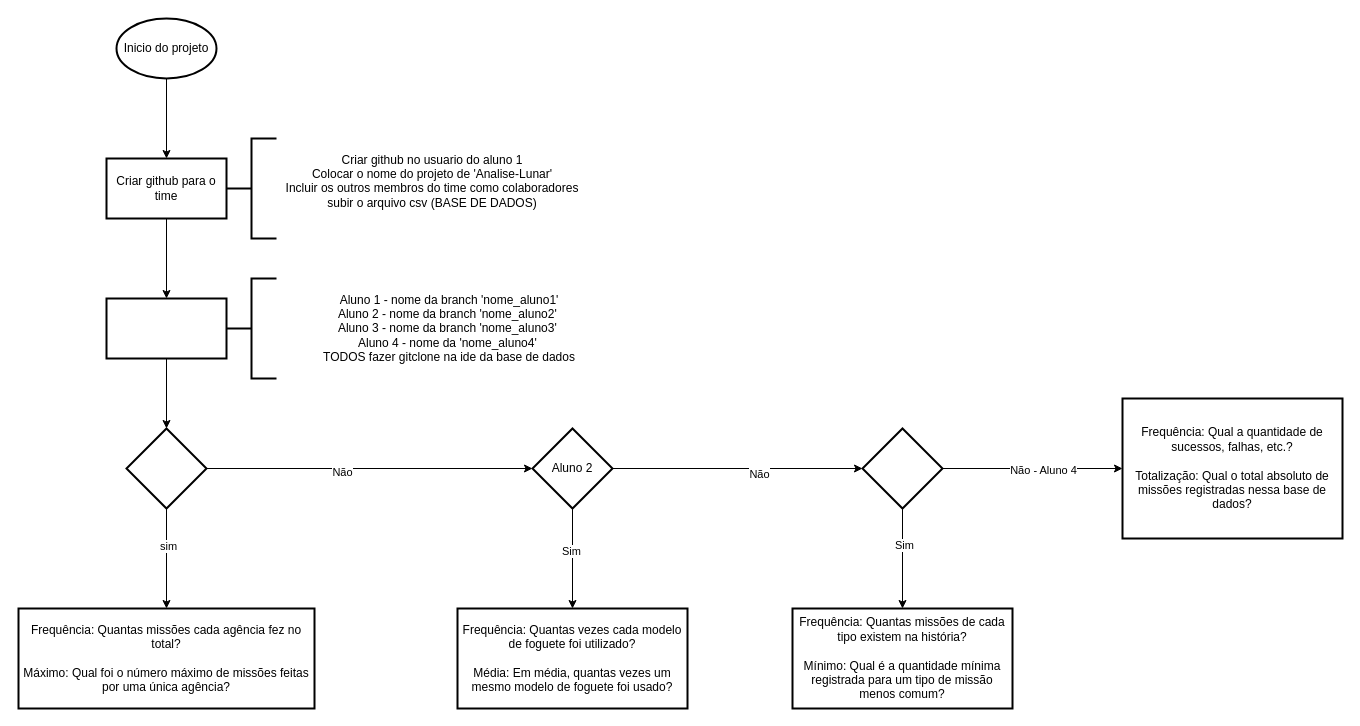
This 1360x726 diagram has some shape labels left out. The shapes that lost their labels are listed below. From the top down, each one's box as (x1, y1, x2, y2) in pixels, then its label:
(105, 297, 227, 359): Abrir IDE
(125, 427, 207, 509): Aluno 1
(861, 427, 943, 509): Aluno 3
